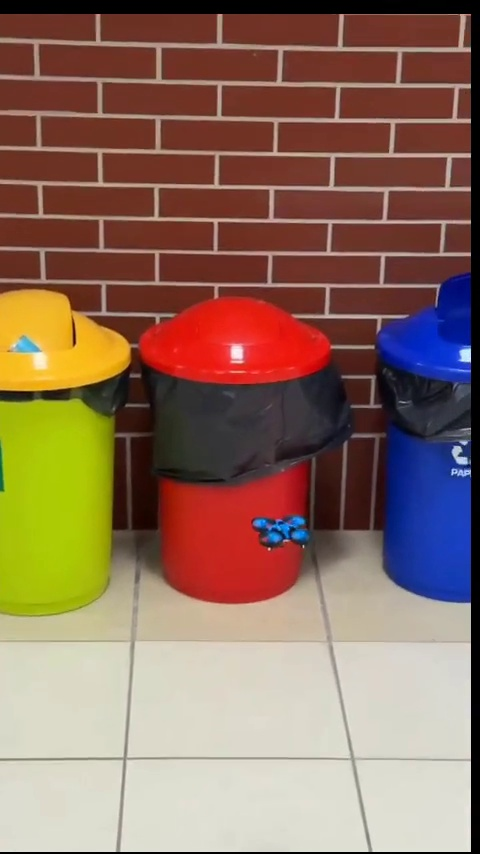drone: (248, 515, 311, 553)
